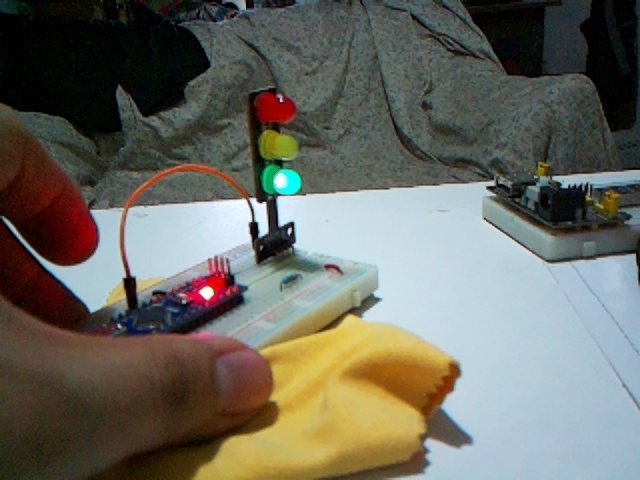traffic_light_green: (248, 87, 301, 263)
